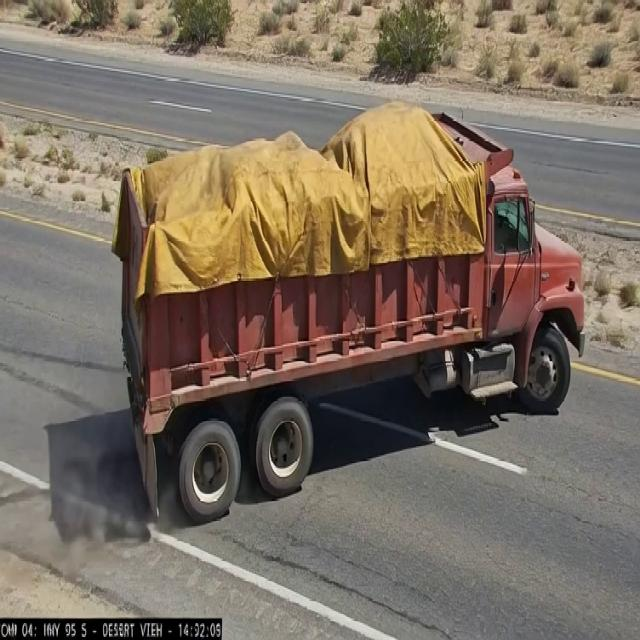trailer: (117, 102, 515, 272)
truck: (106, 79, 590, 510)
